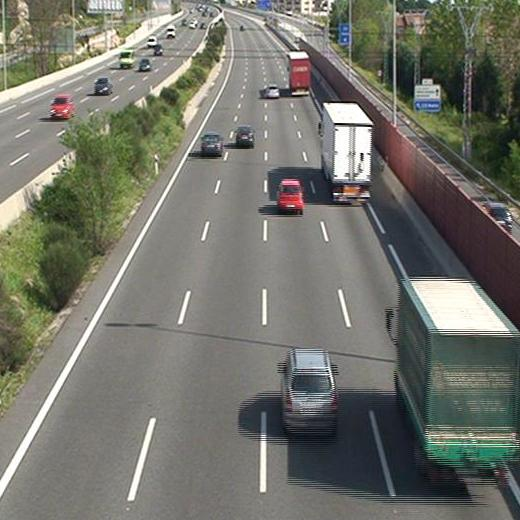car: (281, 349, 339, 434), (278, 180, 304, 210), (200, 133, 221, 154), (237, 126, 254, 146), (265, 84, 280, 98)
small-truck: (397, 278, 520, 477)
truck: (320, 102, 371, 206), (287, 51, 311, 96)
